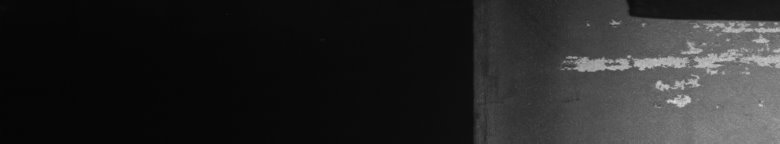kb: (561, 4, 776, 112)
